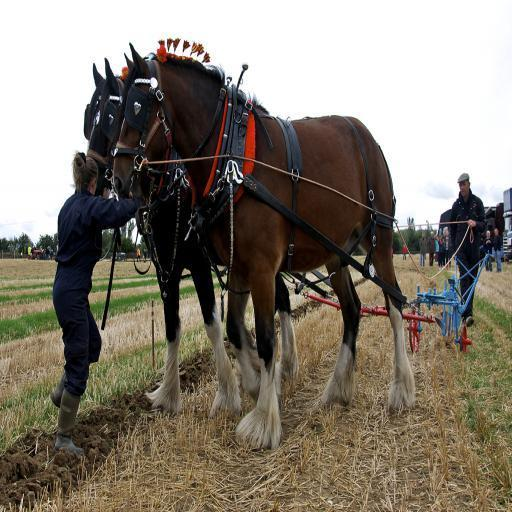horse: (112, 44, 416, 450), (85, 57, 300, 411)
